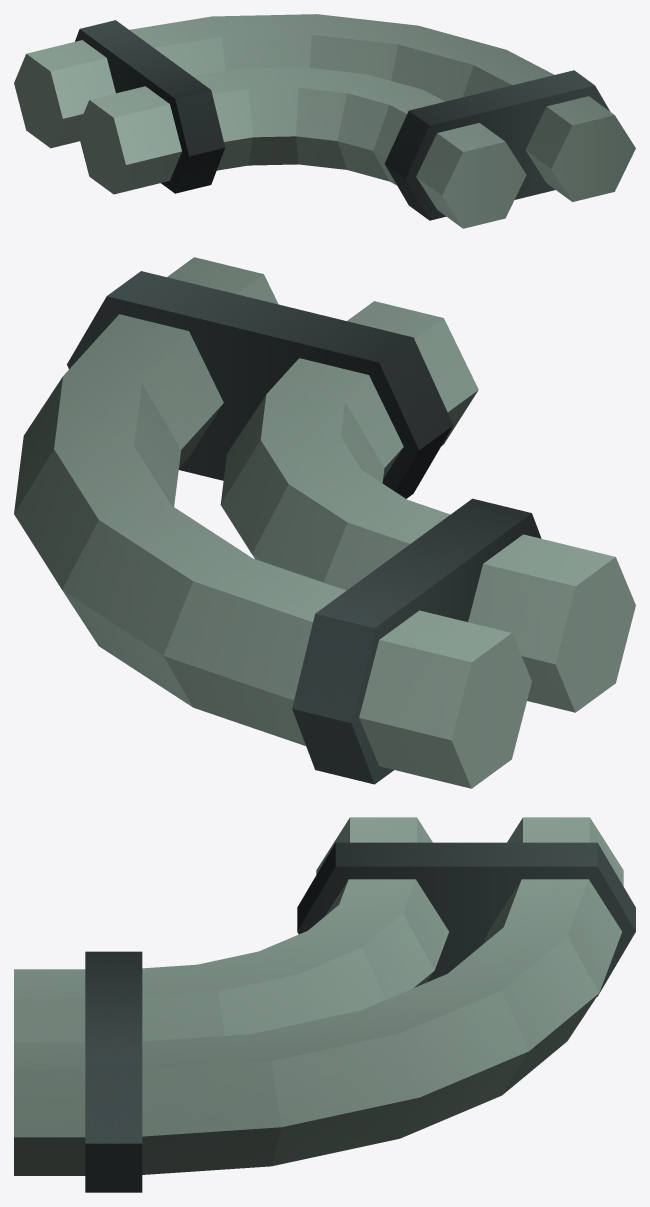
The picture shows the model from 3 angles, top to bottom: view 1: azimuth 30°, elevation 25°; view 2: azimuth 150°, elevation 25°; view 3: azimuth 270°, elevation 25°; orthographic projection. The views are drawn at different scales.
Parts seen in each view (by area): view 1: object.014; view 2: object.014; view 3: object.014.
Part boxes in pixels (left/top/right/bottom): object.014: left=14, top=14, right=635, bottom=228; object.014: left=14, top=257, right=635, bottom=788; object.014: left=14, top=817, right=635, bottom=1192.
Size of the model in its own units: 95.94 by 21.26 by 92.13.
